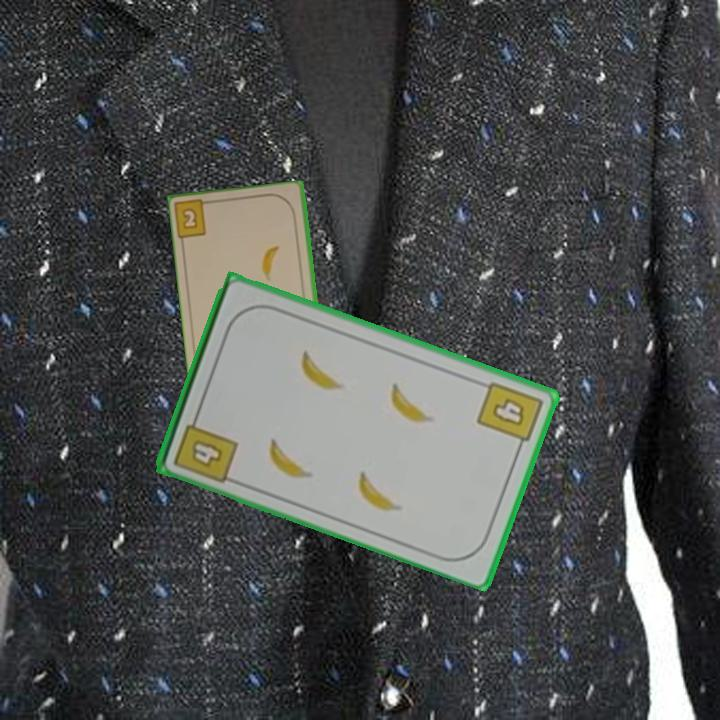2b: (173, 197, 217, 243)
4b: (473, 377, 546, 454), (170, 408, 241, 486)
